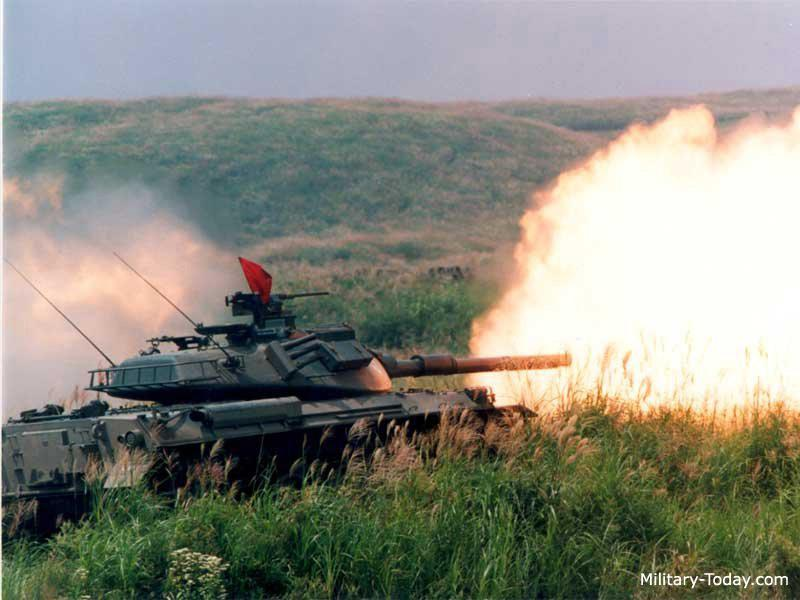tank: (0, 291, 574, 541)
